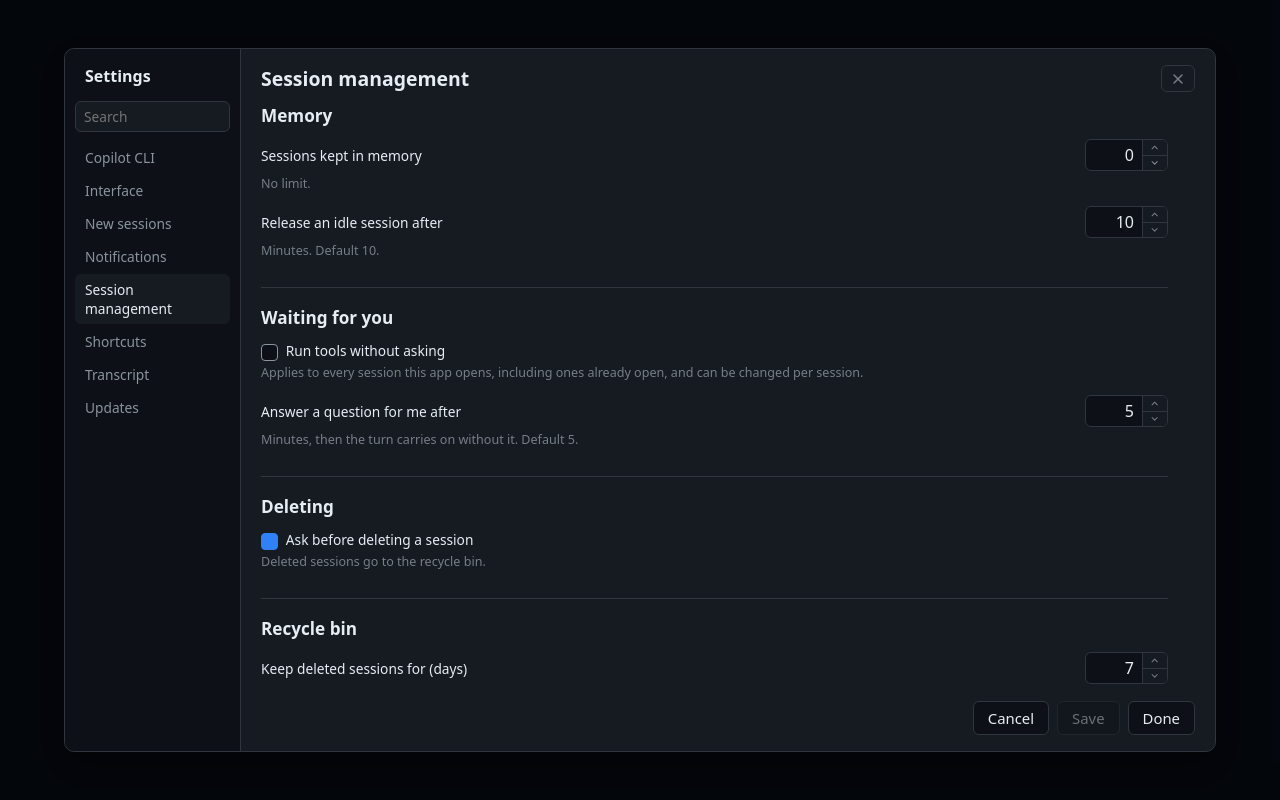
Test: disk usage details in settings › opens details over settings and Escape returns to the unchanged settings window
Click the button "Session management": point(152, 299) [75, 274, 230, 324]
(page scrolled)
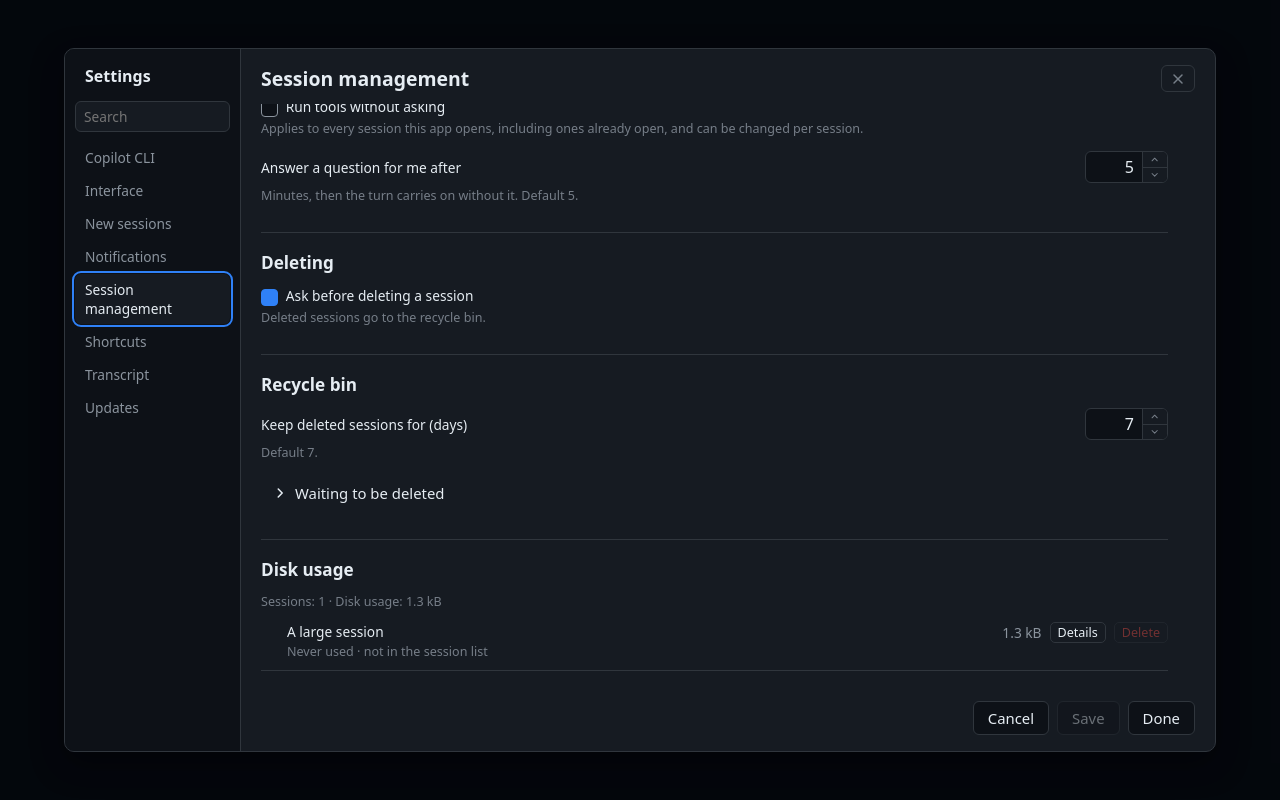
Click the button "Details": point(1078, 632) [1050, 622, 1106, 643]
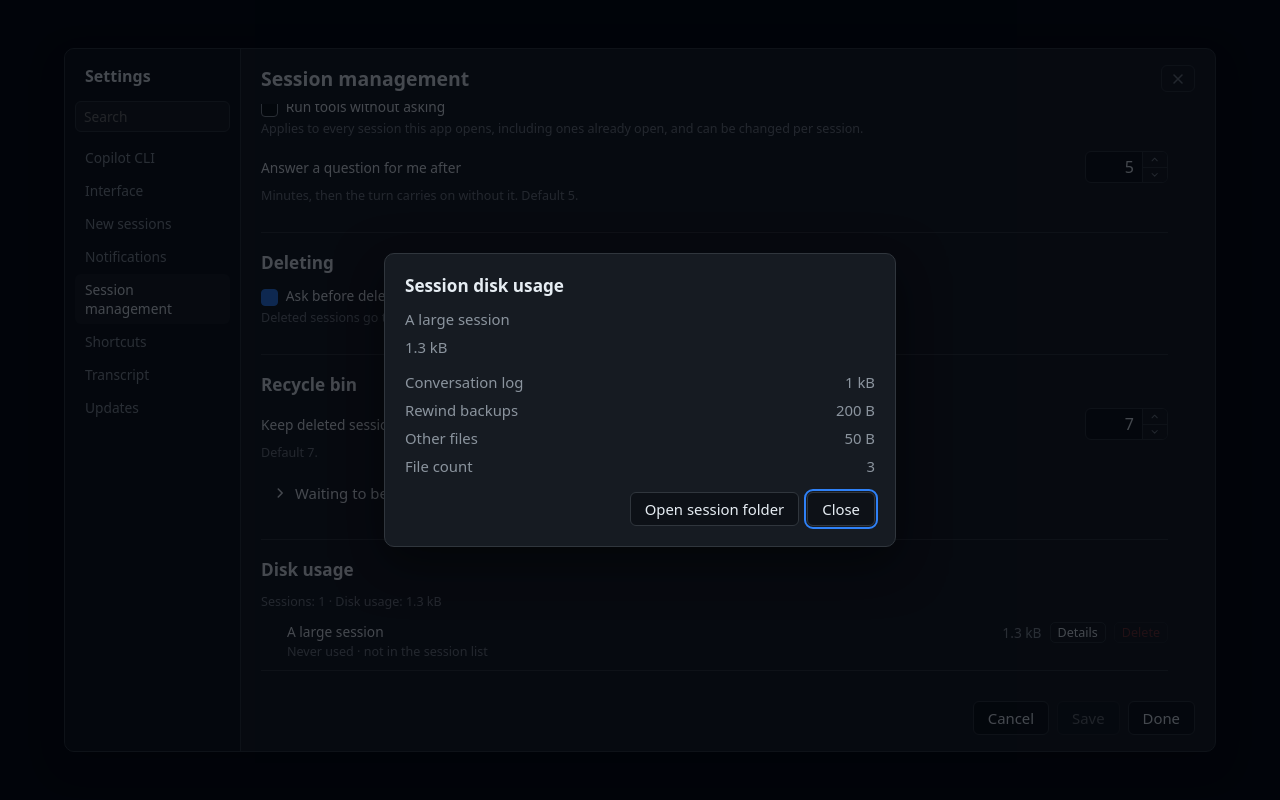
Expected: the dialog "Session disk usage" is shown, [384, 253, 896, 547]
Expected: the text "200 B" is shown, [836, 400, 875, 420]
Press Escape
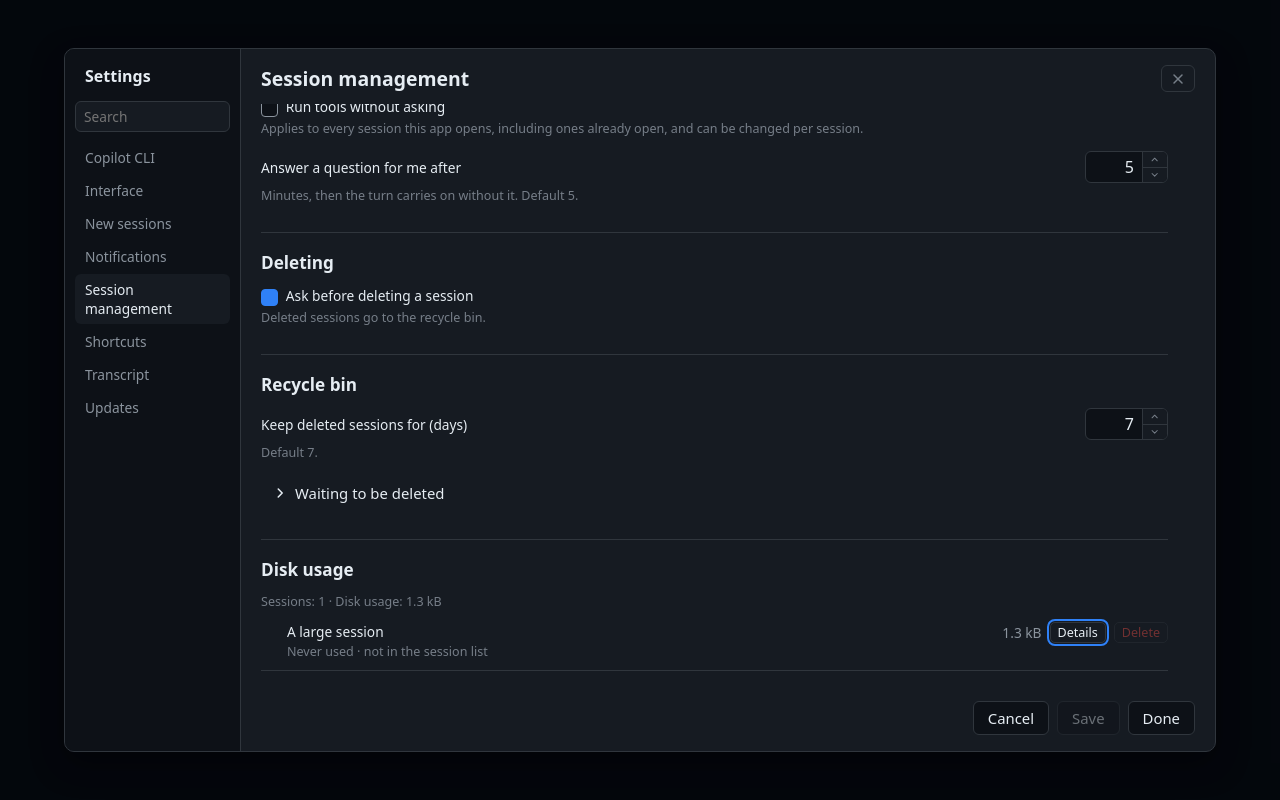
Expected: the heading "Session disk usage" is gone
